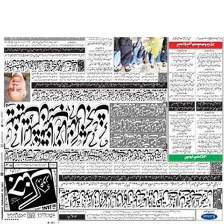news_paper: (0, 36, 224, 223)
